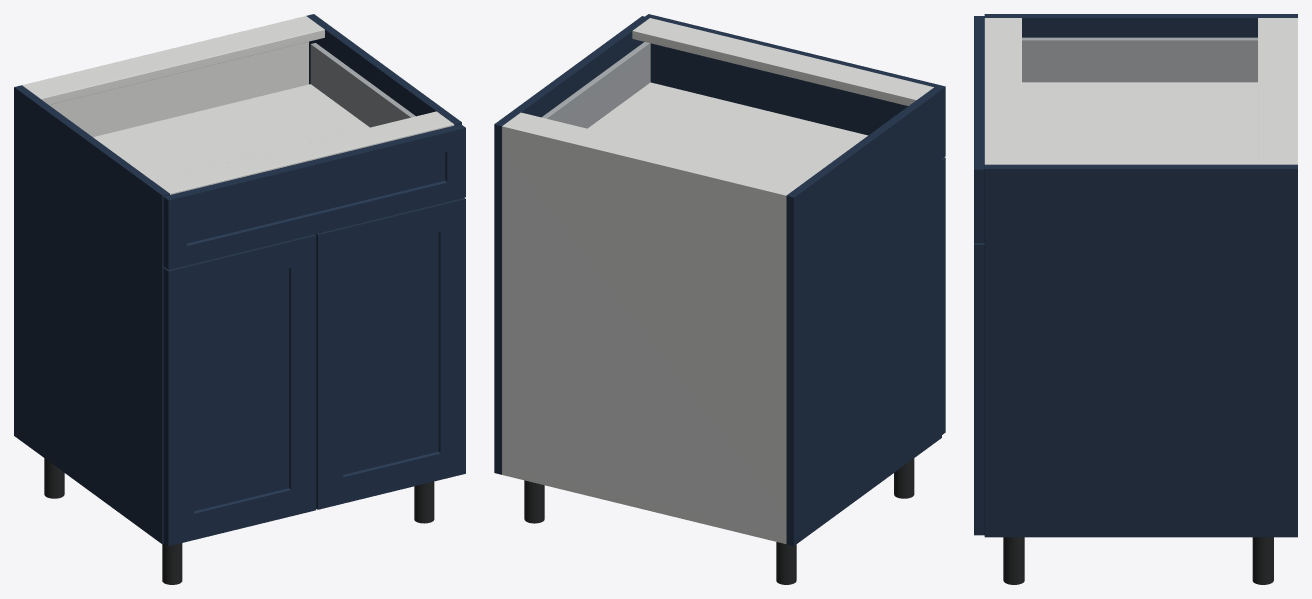
The model's file is oppein-pb-bss-b27.glb.
3 views of the same model, side by side, from view 1: azimuth 30°, elevation 25°; view 2: azimuth 150°, elevation 25°; view 3: azimuth 270°, elevation 25° (orthographic). The views are drawn at different scales.
Visible parts, largest first — view 1: Cabinet side, Door, Door.001, Drawer front, Drawer floor, Cabinet back, Top support rail, Top support rail.001, Drawer side.001, Cabinet side.001, Adjustable foot.001, Adjustable foot.003 (+1 smaller); view 2: Cabinet back, Cabinet side, Drawer floor, Drawer front, Top support rail.001, Cabinet side.001, Top support rail, Drawer side.001, Cabinet bottom, Door, Adjustable foot, Adjustable foot.002 (+1 smaller); view 3: Cabinet side.001, Drawer floor, Drawer side, Cabinet side, Top support rail.001, Top support rail, Door.001, Drawer front, Adjustable foot.003, Adjustable foot.002, Cabinet back.
Part boxes in pixels (x1=…): Cabinet side: x1=14, y1=85, x2=169, y2=544; Door: x1=163, y1=234, x2=316, y2=546; Door.001: x1=315, y1=198, x2=465, y2=509; Drawer front: x1=163, y1=124, x2=465, y2=269; Drawer floor: x1=93, y1=84, x2=369, y2=180; Cabinet back: x1=22, y1=16, x2=308, y2=136; Top support rail: x1=25, y1=18, x2=324, y2=104; Top support rail.001: x1=152, y1=111, x2=454, y2=194; Drawer side.001: x1=310, y1=43, x2=415, y2=127; Cabinet side.001: x1=306, y1=14, x2=461, y2=125; Adjustable foot.001: x1=162, y1=543, x2=182, y2=584; Adjustable foot.003: x1=414, y1=481, x2=434, y2=523; Cabinet back: x1=502, y1=124, x2=788, y2=543; Cabinet side: x1=786, y1=87, x2=941, y2=545; Drawer floor: x1=588, y1=82, x2=867, y2=181; Drawer front: x1=645, y1=14, x2=945, y2=158; Top support rail.001: x1=632, y1=18, x2=933, y2=105; Cabinet side.001: x1=494, y1=16, x2=649, y2=474; Top support rail: x1=505, y1=112, x2=804, y2=193; Drawer side.001: x1=541, y1=42, x2=650, y2=128; Cabinet bottom: x1=502, y1=469, x2=786, y2=543; Door: x1=942, y1=157, x2=945, y2=434; Adjustable foot: x1=776, y1=542, x2=796, y2=584; Adjustable foot.002: x1=524, y1=480, x2=544, y2=523; Cabinet side.001: x1=984, y1=164, x2=1297, y2=537; Drawer floor: x1=1022, y1=82, x2=1257, y2=164; Drawer side: x1=1022, y1=37, x2=1257, y2=82; Cabinet side: x1=984, y1=14, x2=1297, y2=37; Top support rail.001: x1=984, y1=18, x2=1021, y2=164; Top support rail: x1=1258, y1=18, x2=1291, y2=164; Door.001: x1=974, y1=243, x2=984, y2=535; Drawer front: x1=974, y1=16, x2=984, y2=242; Adjustable foot.003: x1=1003, y1=537, x2=1024, y2=584; Adjustable foot.002: x1=1252, y1=537, x2=1273, y2=584; Cabinet back: x1=1292, y1=18, x2=1297, y2=164.
Size of the model in its own units: 0.6858 by 0.8763 by 0.6064.
